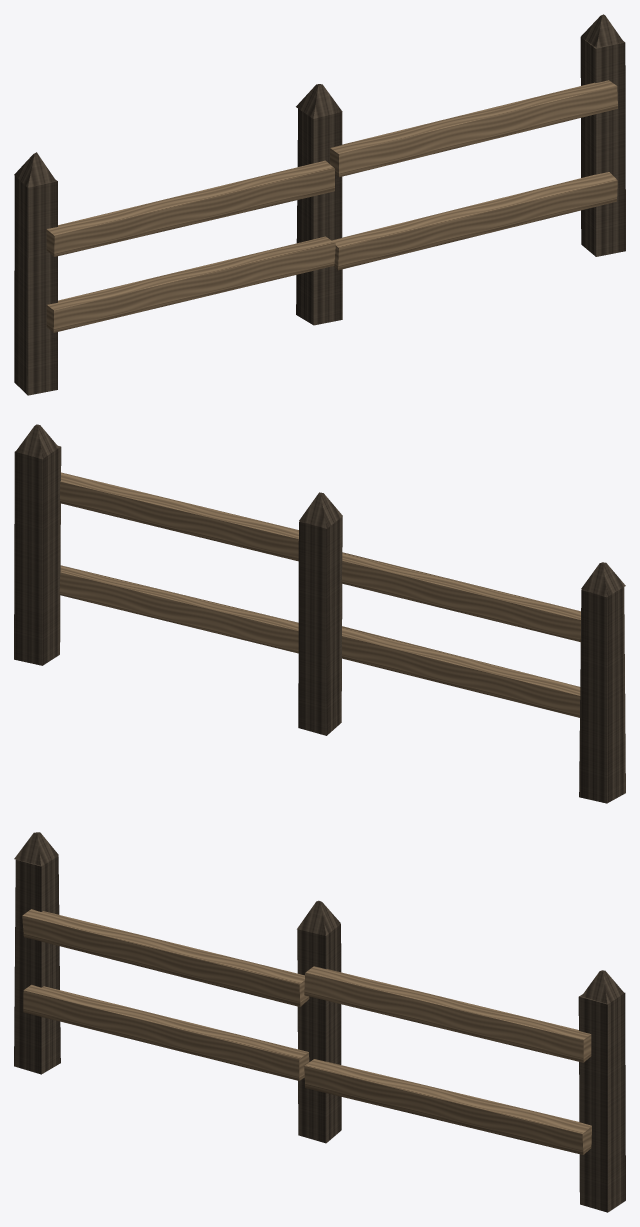
The model's file is fence_post_set.glb.
3 views of the same model, one above another, from view 1: azimuth 30°, elevation 25°; view 2: azimuth 150°, elevation 25°; view 3: azimuth 330°, elevation 25° (orthographic).
Visible parts, largest first — view 1: FencePostSet; view 2: FencePostSet; view 3: FencePostSet.
Boxes of the visible parts, x1,y1,x2,y2 form: FencePostSet: (14, 14, 625, 395); FencePostSet: (14, 424, 625, 803); FencePostSet: (14, 832, 625, 1212).
Size of the model in its own units: 3.54 by 1.32 by 0.2798.
Materials: 2 (2 with a texture image).
